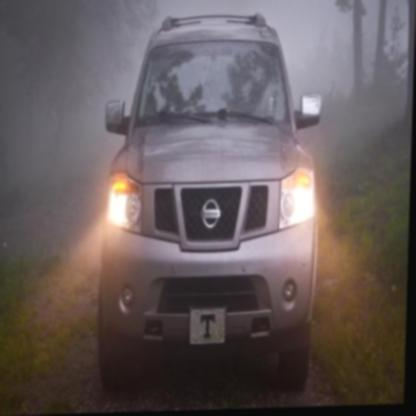License_Plate: (189, 305, 228, 346)
